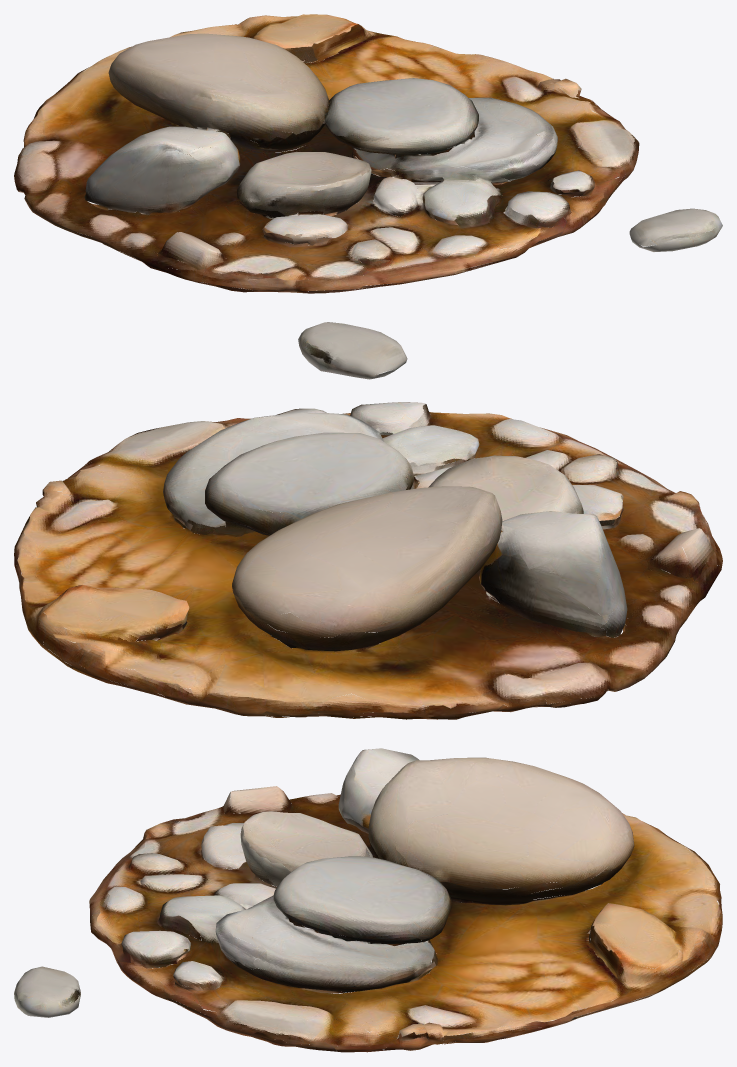
The model's file is wt-village-boulders.glb.
3 renders of one model, top to bottom at view 1: azimuth 30°, elevation 25°; view 2: azimuth 150°, elevation 25°; view 3: azimuth 270°, elevation 25°, orthographic. The views are drawn at different scales.
Parts seen in each view (by area): view 1: lo.obj; view 2: lo.obj; view 3: lo.obj.
Boxes of the visible parts, box(x1,y1,x2,y2) form: lo.obj: box(14, 14, 722, 293); lo.obj: box(14, 322, 722, 719); lo.obj: box(14, 748, 722, 1052).
Bounding box in the file's own units: 3.33 × 0.6319 × 3.75.
1 material, 1 textured.
